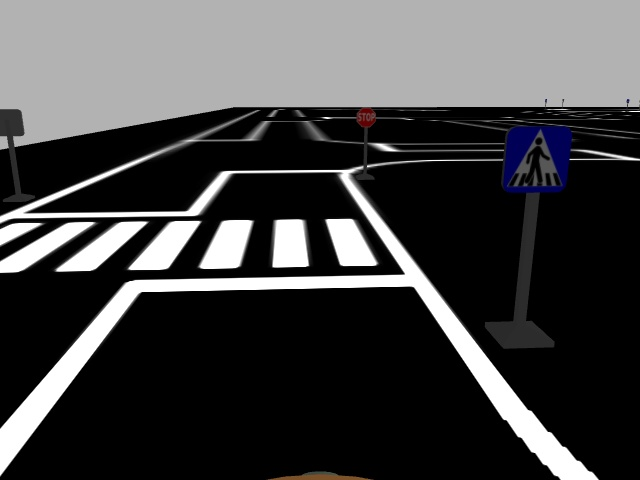crosswalk: (502, 122, 575, 194)
stop: (354, 104, 378, 128)
